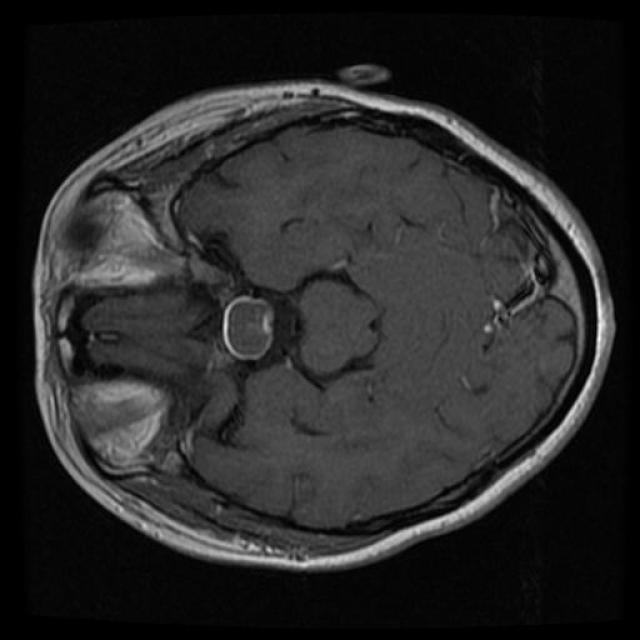Pituitary: (222, 295, 273, 360)
